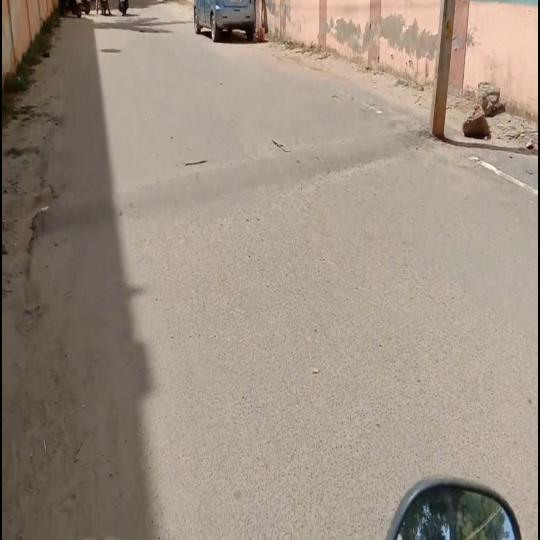Speed Bump: (31, 128, 431, 238)
